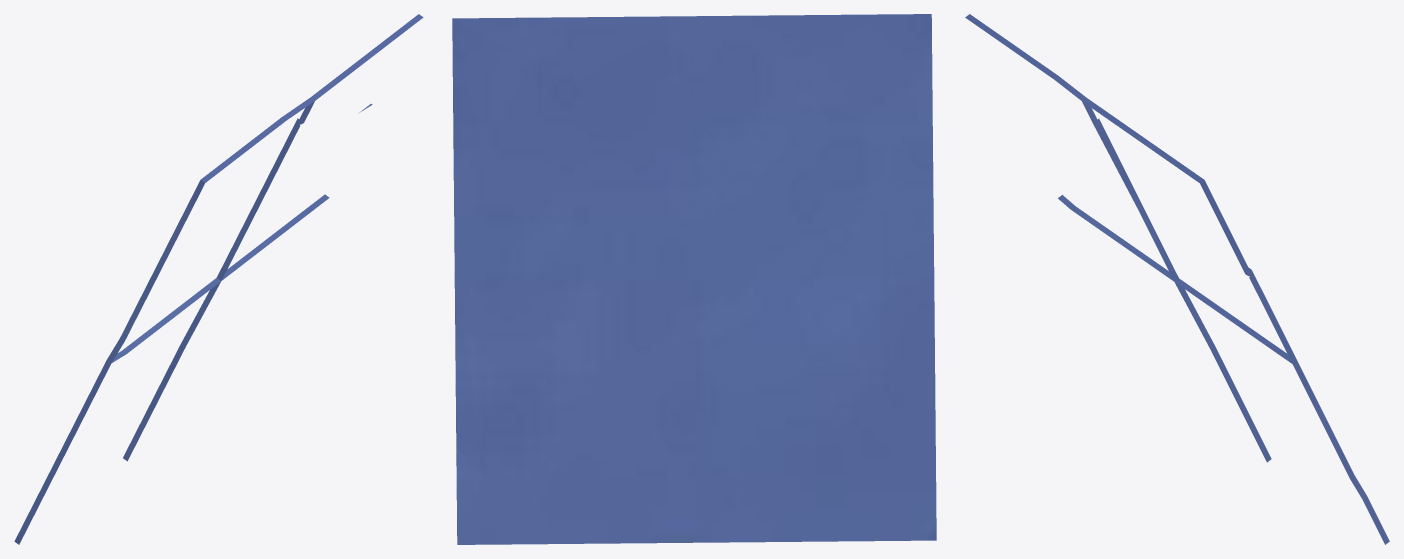
3 renders of one model, left to right at view 1: azimuth 30°, elevation 25°; view 2: azimuth 150°, elevation 25°; view 3: azimuth 270°, elevation 25°, orthographic. The views are drawn at different scales.
Size of the model in its own units: 9849 by 8870 by 8286.
Materials: 1 (1 with a texture image).
